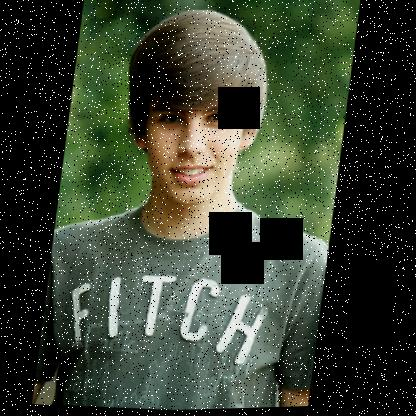Male: (127, 85, 267, 209)
